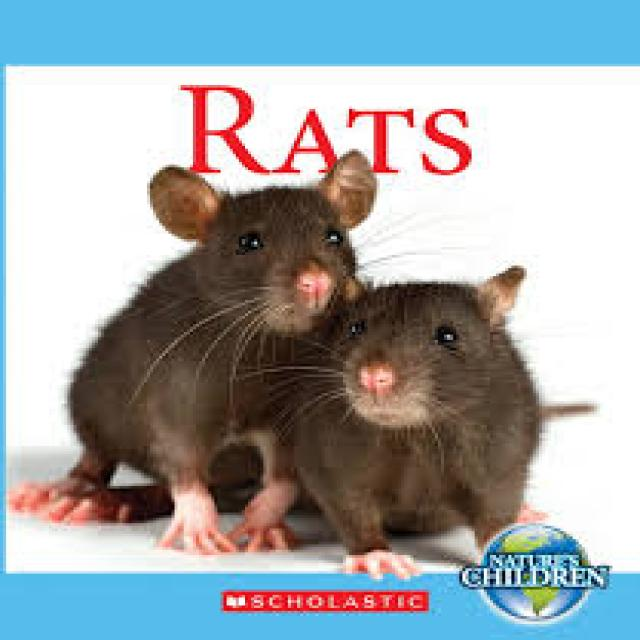rat: (6, 146, 377, 555), (227, 260, 554, 579)
